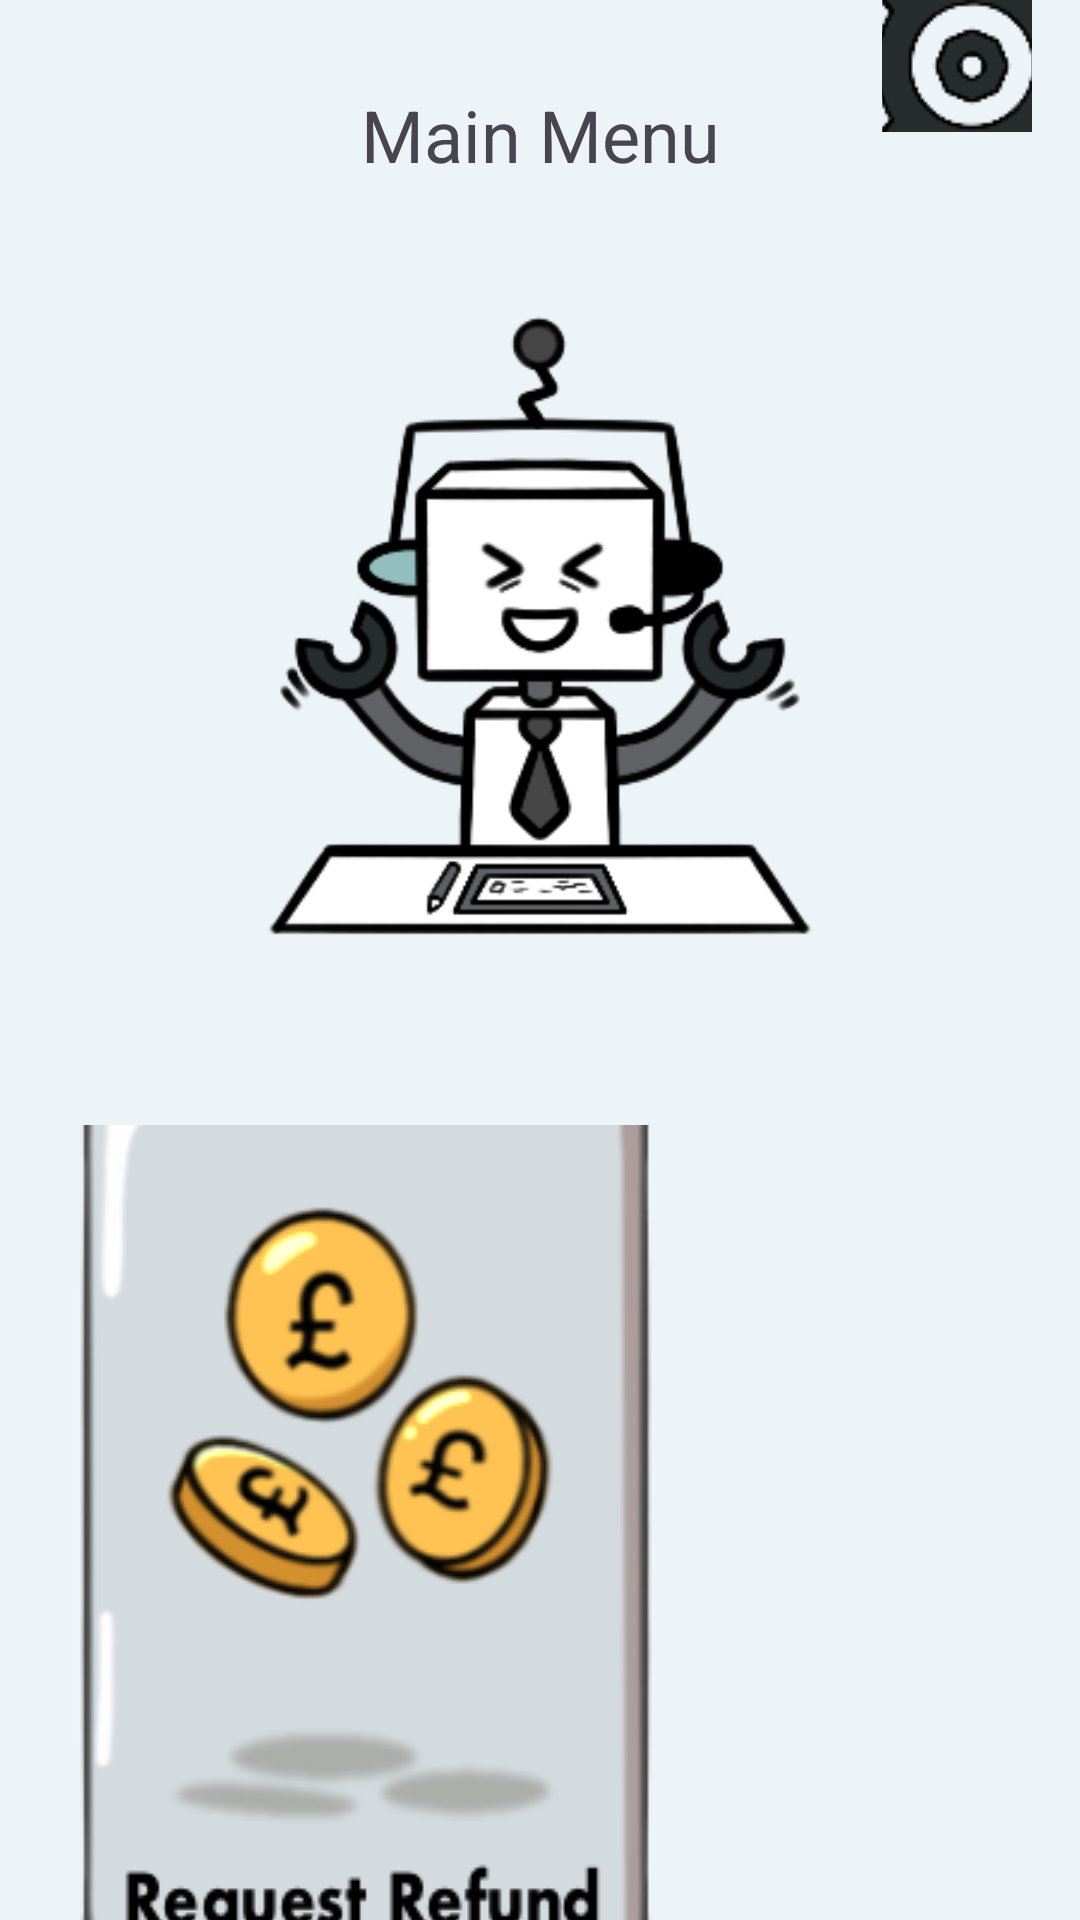

Icons on this 1080×1920 Android screen, each with the point to tap as point (x, y):
settings: point (957, 66)
